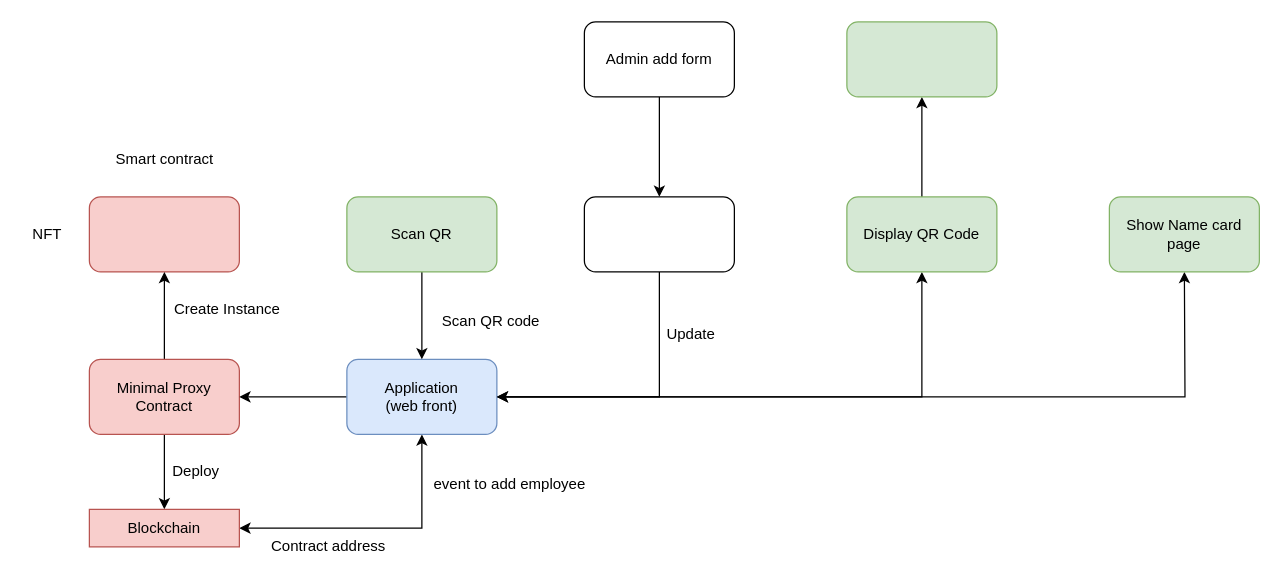
The diagram is 1281 pixels wide and 581 high, and some of its shapes have lost their labels. The centre of each missing label's shape, as x and y in pixels:
NameCard Contract (ERC 721): the point at 163,234
Print card based on QR code: the point at 921,59
Update Information: the point at 658,234
